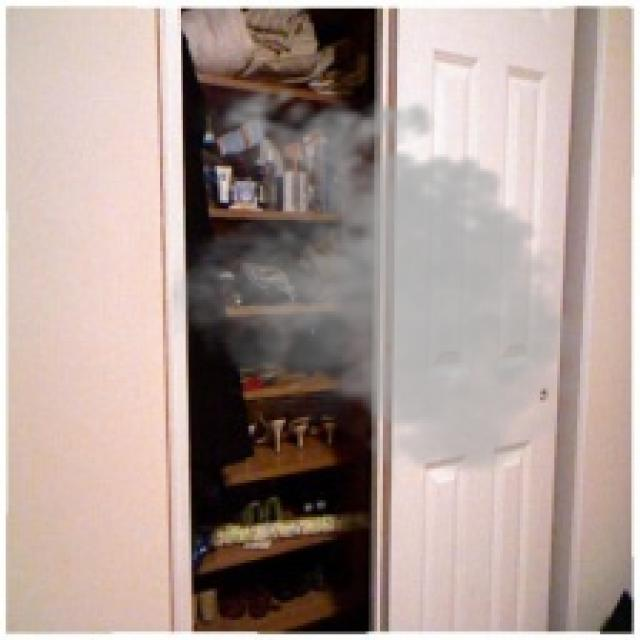Smoke: (172, 74, 594, 483)
